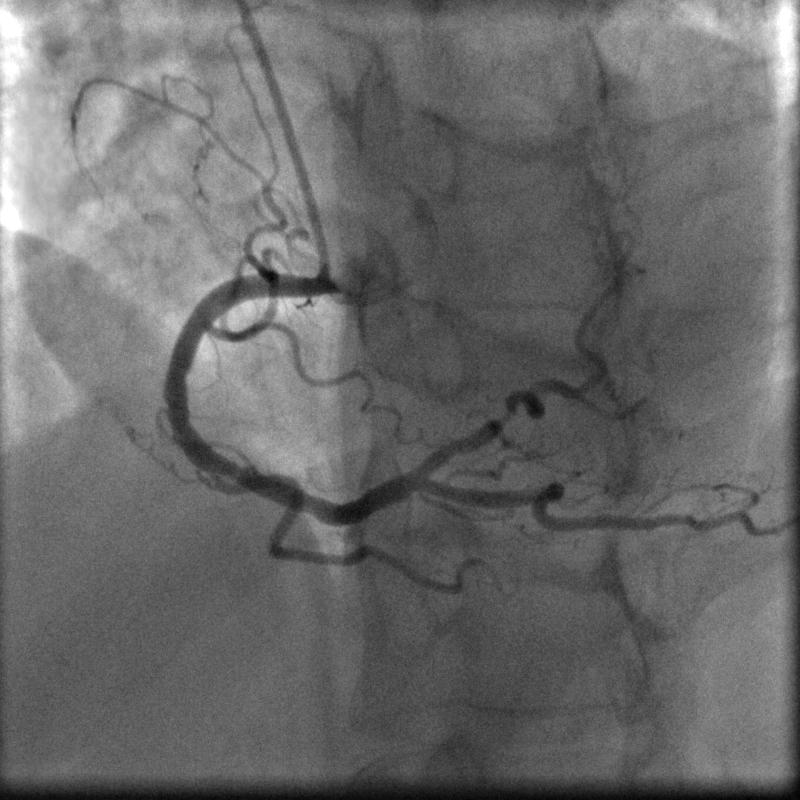Stenosis: (483, 393, 518, 431)
